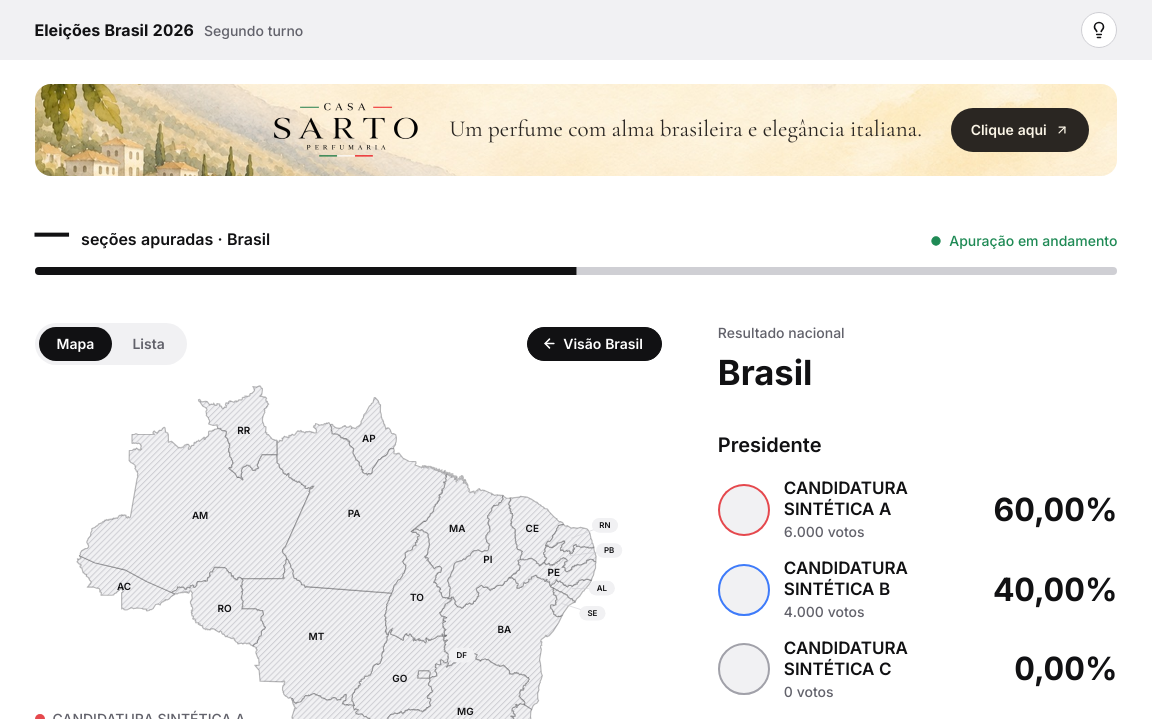
Test: PresidentPage › deve trocar o mapa pela lista textual das UFs
Expected: the heading "Presidente" is shown, x1=718 y1=433 x2=822 y2=457
Click the button "Lista".
click(149, 344)  # box x1=114 y1=327 x2=183 y2=361
(page scrolled)
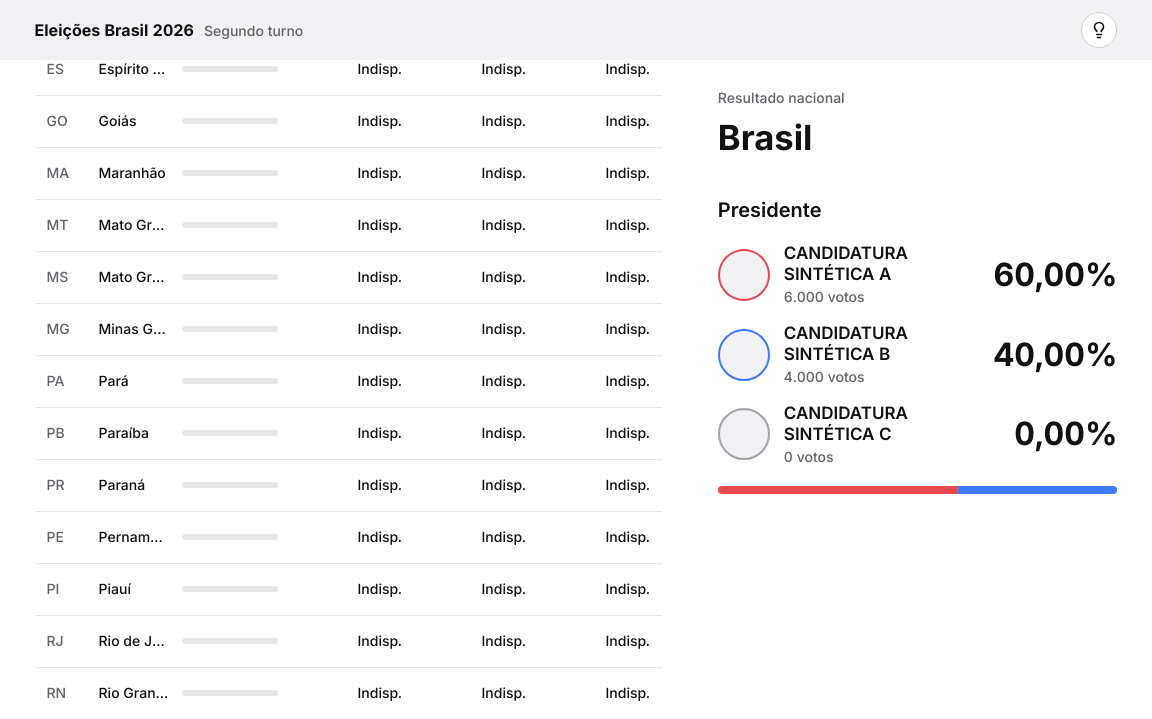
Result: the number of rows ": dados indisponíveis" is 27
